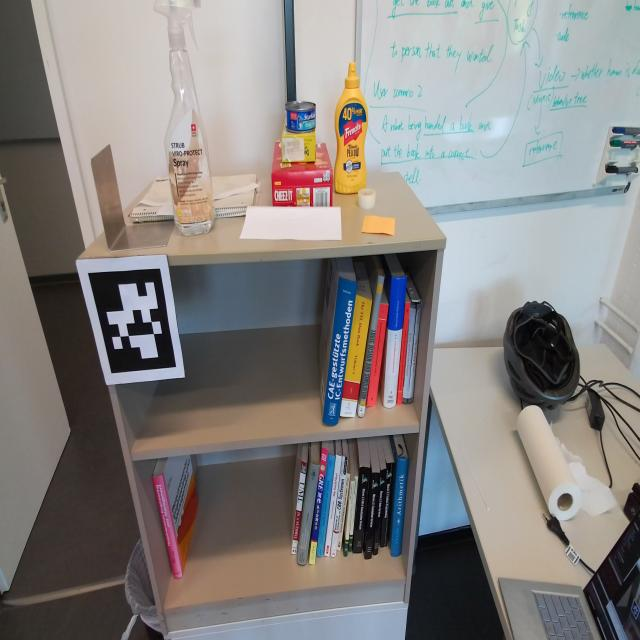Book Spine: (323, 276, 358, 426), (340, 295, 372, 418), (358, 275, 385, 418), (152, 475, 183, 578), (383, 276, 407, 409), (297, 460, 320, 565), (309, 447, 328, 565), (367, 304, 388, 407), (316, 454, 335, 557), (330, 455, 349, 558), (390, 457, 409, 557), (324, 454, 342, 557), (291, 461, 307, 554), (353, 466, 370, 553), (397, 302, 411, 405), (402, 304, 416, 404), (408, 303, 421, 404), (365, 473, 380, 560), (380, 463, 395, 547), (373, 468, 387, 556), (337, 473, 351, 551), (344, 480, 355, 557), (349, 476, 358, 552)
